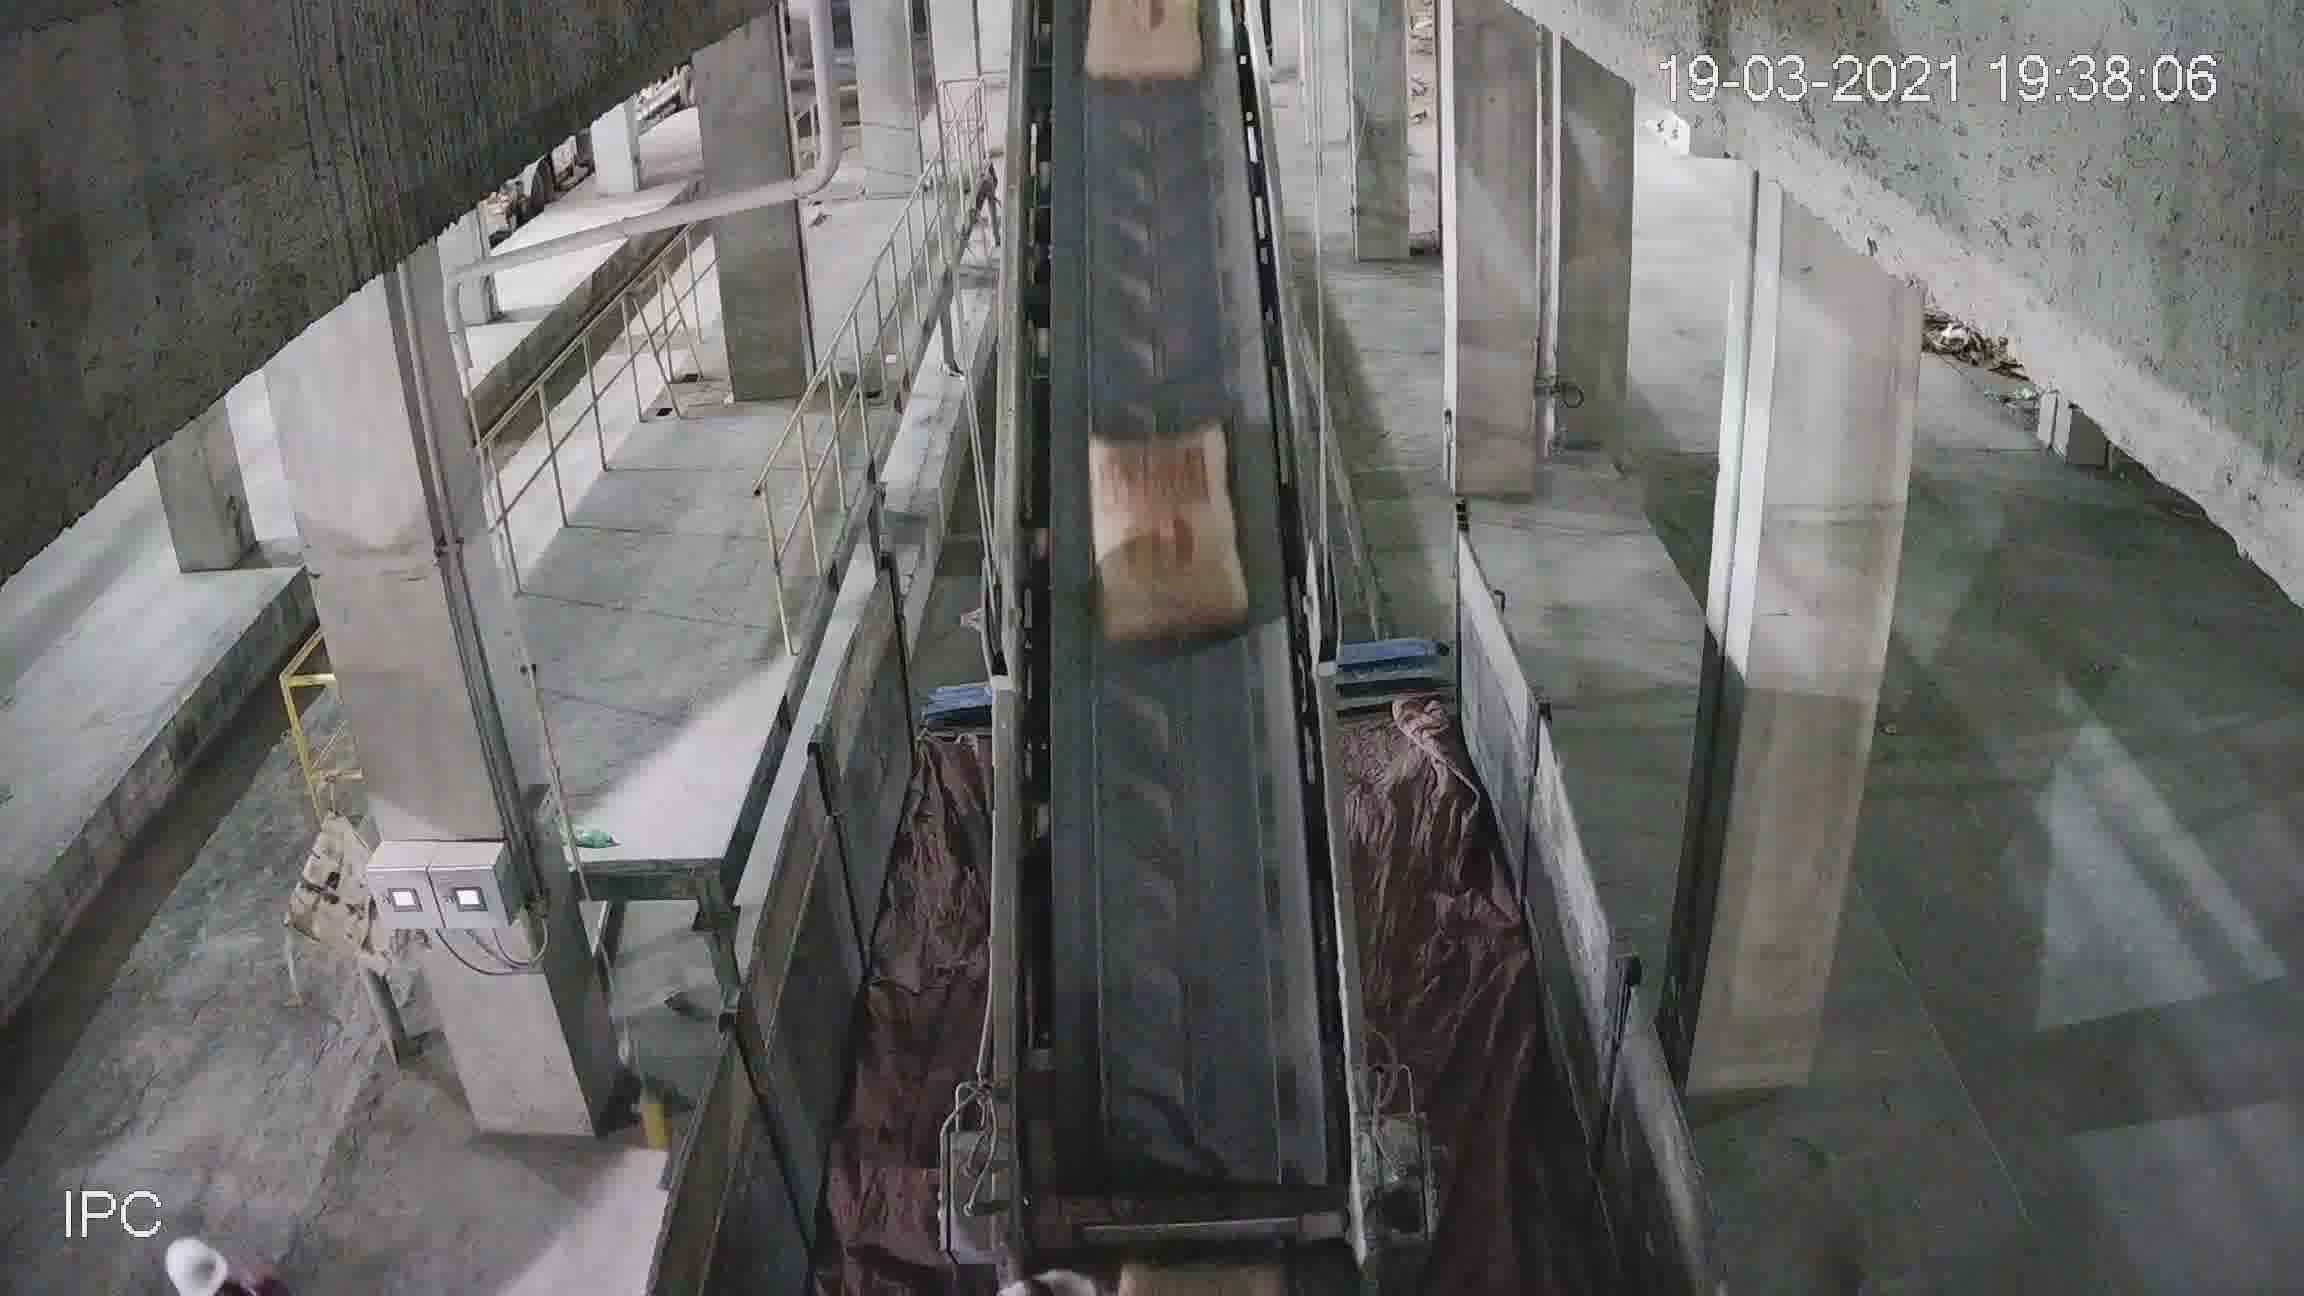bag: (1093, 438, 1239, 620), (1079, 33, 1209, 82)
belt: (986, 60, 1359, 1187)
